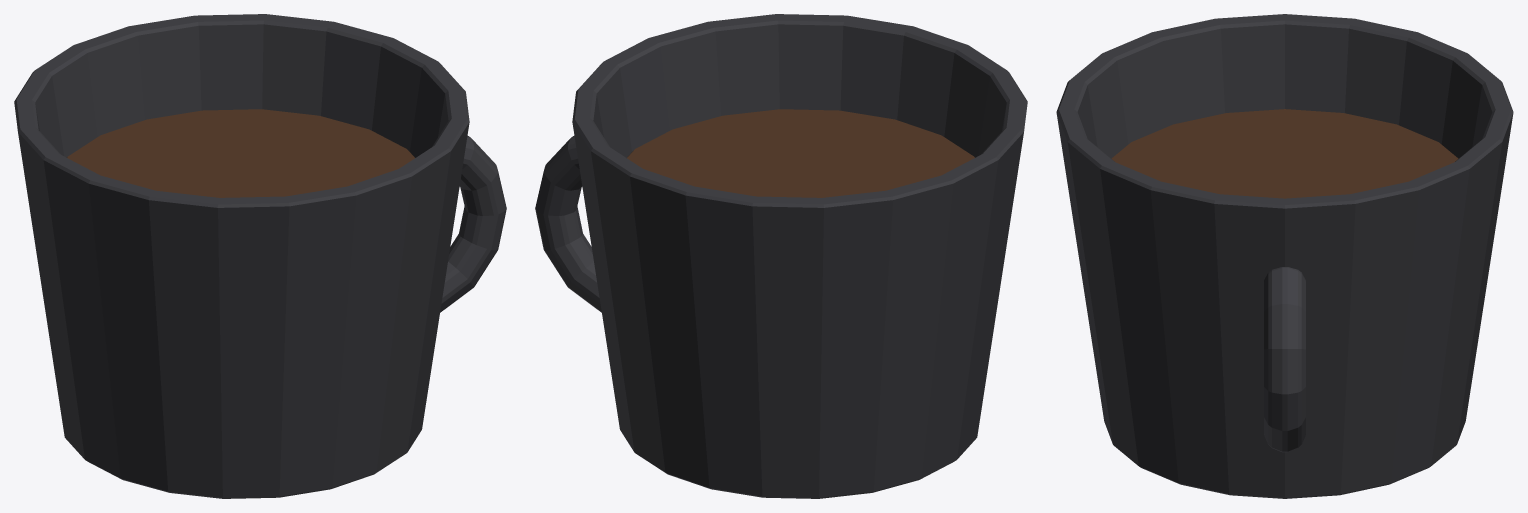
The model's file is cup_espresso.glb.
3 views of the same model, side by side, from view 1: azimuth 30°, elevation 25°; view 2: azimuth 150°, elevation 25°; view 3: azimuth 270°, elevation 25° (orthographic).
Parts seen in each view (by area): view 1: Cup_Espresso; view 2: Cup_Espresso; view 3: Cup_Espresso.
Boxes of the visible parts, <box> form: Cup_Espresso: <box>14,14,506,498</box>; Cup_Espresso: <box>535,14,1027,498</box>; Cup_Espresso: <box>1056,14,1513,498</box>.
Size of the model in its own units: 0.0918 by 0.06 by 0.0791.
